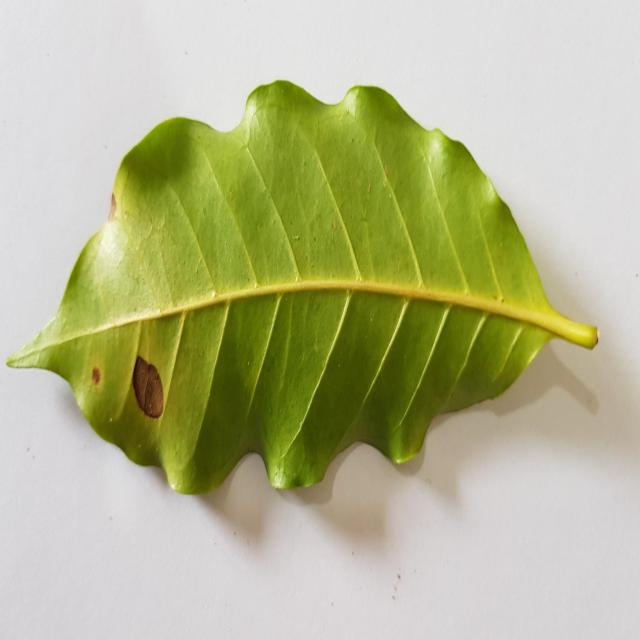Enfermedad-Mancha-de-hierro: (7, 79, 599, 499)
